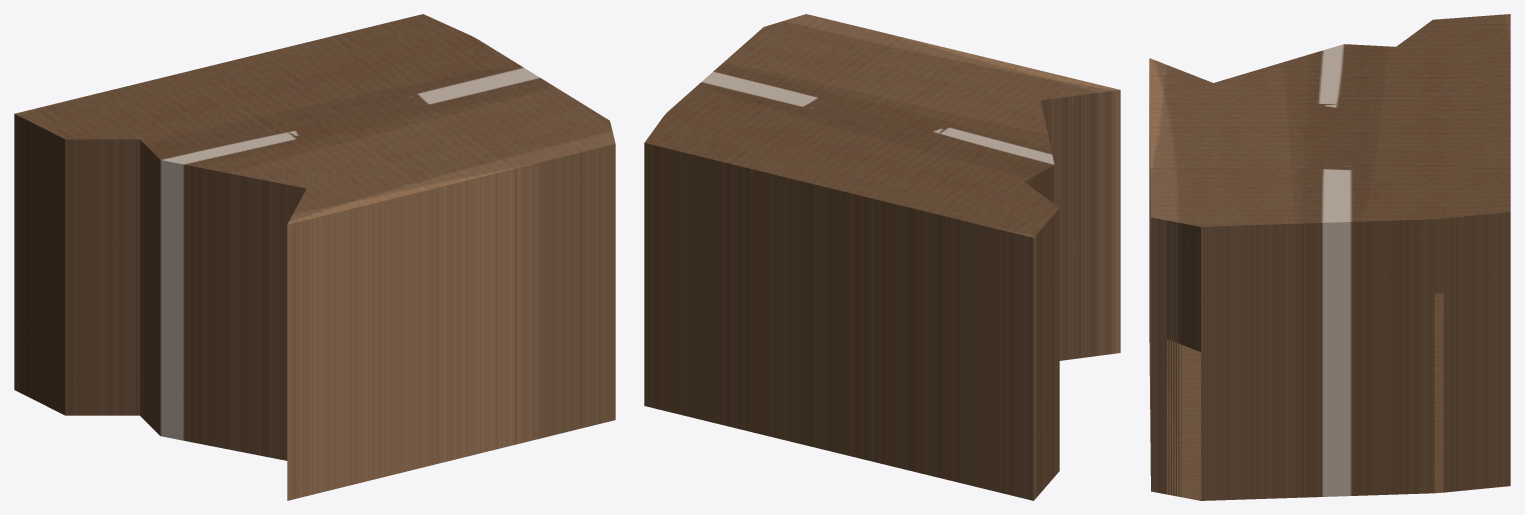
Rendered from road_4.FBX.
3 renders of one model, left to right at view 1: azimuth 30°, elevation 25°; view 2: azimuth 150°, elevation 25°; view 3: azimuth 270°, elevation 25°, orthographic. The views are drawn at different scales.
Visible parts, largest first — view 1: road_4; view 2: road_4; view 3: road_4.
Boxes of the visible parts, x1,y1,x2,y2 form: road_4: (14,14,615,500); road_4: (644,14,1120,500); road_4: (1149,14,1510,500).
Bounding box in the file's own units: 666 × 400 × 478.
Materials: 1 (1 with a texture image).
